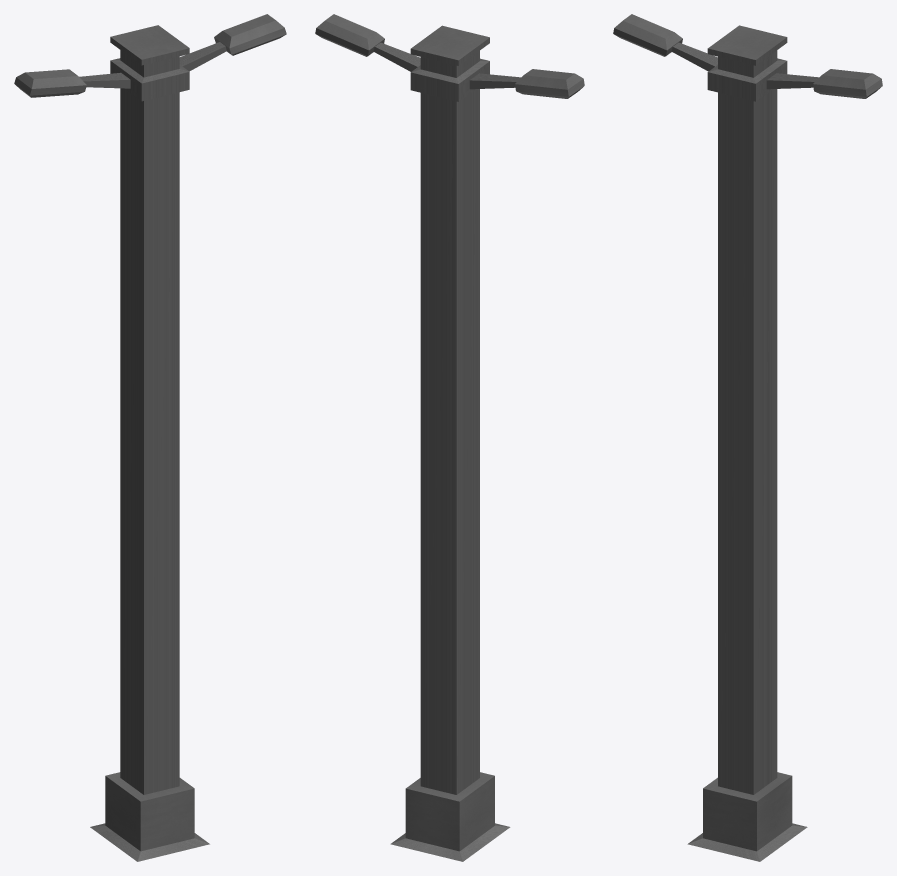
Rendered from poste2.fbx.
3 renders of one model, left to right at view 1: azimuth 30°, elevation 25°; view 2: azimuth 150°, elevation 25°; view 3: azimuth 330°, elevation 25°, orthographic.
Parts seen in each view (by area): view 1: Cube; view 2: Cube; view 3: Cube.
Part boxes in pixels (x1,y1,x2,y2): Cube: [14, 14, 286, 861]; Cube: [315, 14, 584, 861]; Cube: [613, 14, 882, 861].
Size of the model in its own units: 130 by 385 by 42.05.
2 materials, 1 textured.
